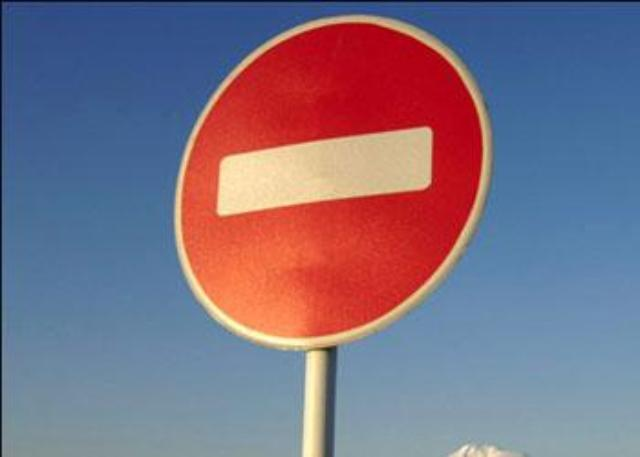B2: (171, 11, 494, 351)
